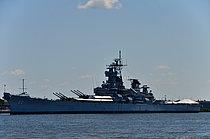MIL_Ship: (3, 50, 201, 115)
